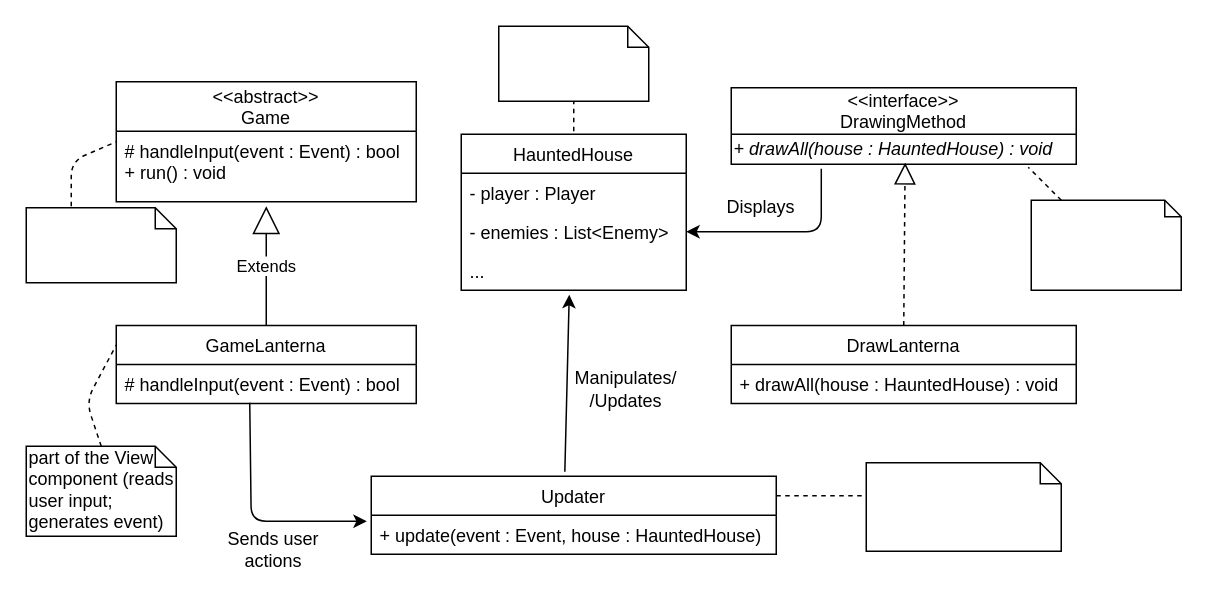
Some shapes in this 1208 by 599 pixel diagram are drawn without their labels. The shapes that lost their labels are listed below. From the top down, each one's centre as x and y in pixels, then its label:
At point (573, 63): "Model; only represents the data".
At point (100, 244): "class that combines all the modules".
At point (1105, 244): "part of the View component (receives Model, draws)".
At point (963, 506): "Controller; receives Event and Model; updates the Model's current state".
